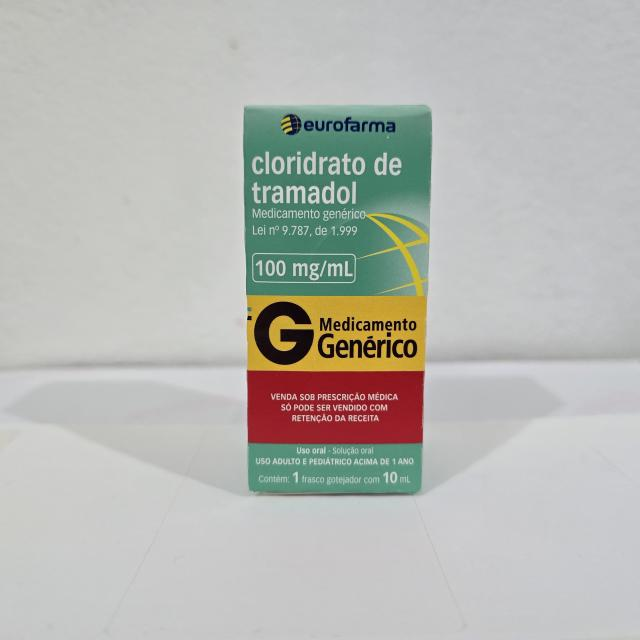tramadol: (238, 96, 436, 503)
